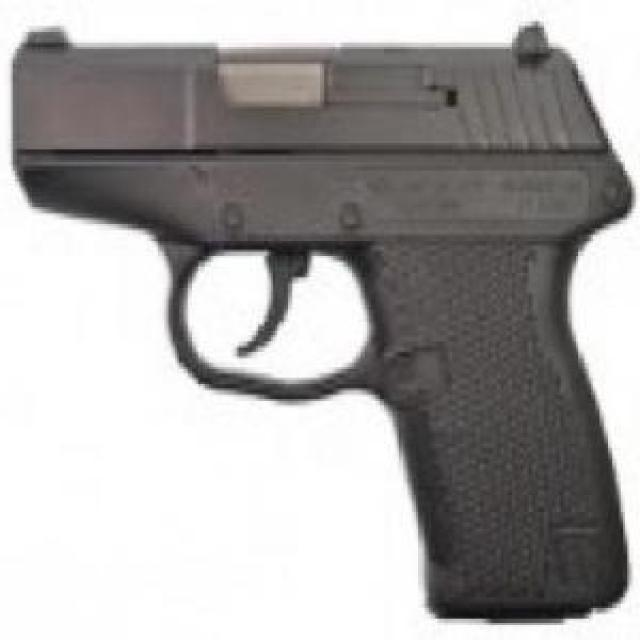pistol: (11, 25, 623, 618)
